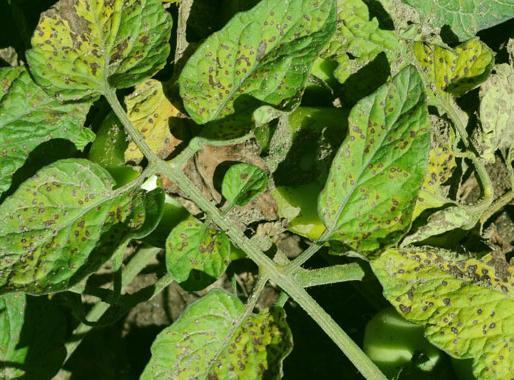Tomato Septoria leaf spot: (303, 63, 435, 262), (179, 0, 351, 138), (370, 232, 514, 380), (23, 0, 172, 128), (0, 159, 130, 302), (115, 289, 297, 380)
